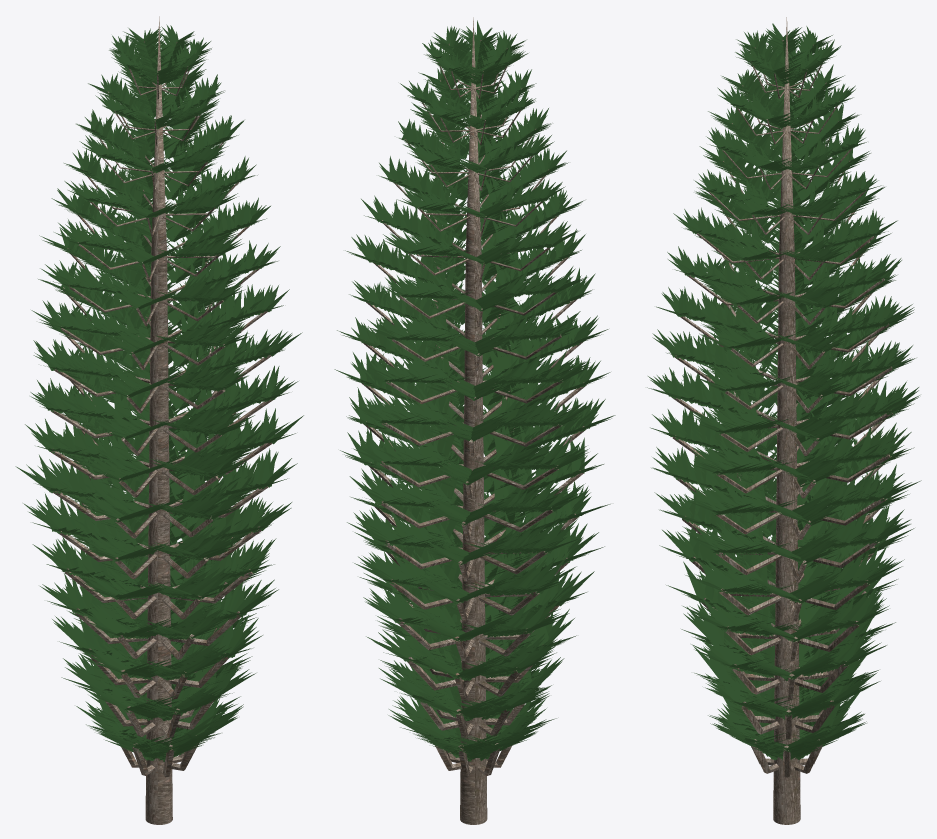
File: cipres_jardin.glb
The picture shows the model from 3 angles, left to right: view 1: azimuth 30°, elevation 25°; view 2: azimuth 150°, elevation 25°; view 3: azimuth 270°, elevation 25°; orthographic projection.
Parts seen in each view (by area): view 1: cipres_jardin; view 2: cipres_jardin; view 3: cipres_jardin.
Part boxes in pixels (x1,y1,x2,y2): cipres_jardin: (15, 16, 303, 824); cipres_jardin: (334, 17, 615, 824); cipres_jardin: (647, 17, 921, 824).
Size of the model in its own units: 1.11 by 3.5 by 1.09.
2 materials, 1 textured.
